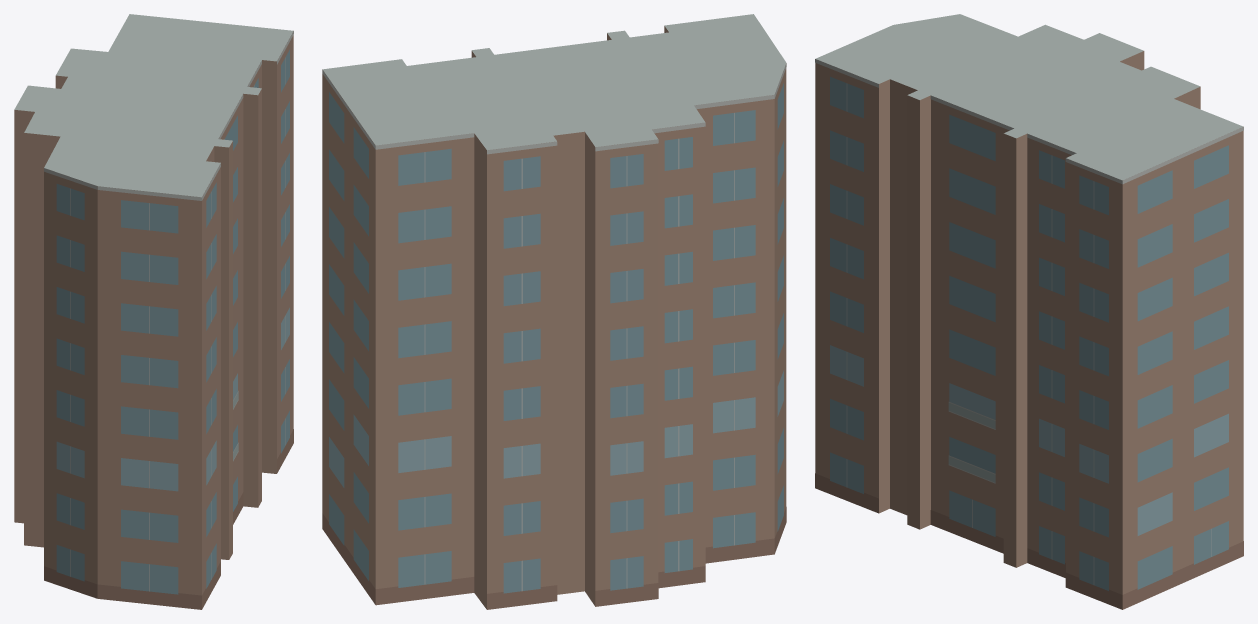
Rendered from survey-upis-32961012.glb.
The picture shows the model from 3 angles, left to right: view 1: azimuth 30°, elevation 25°; view 2: azimuth 150°, elevation 25°; view 3: azimuth 270°, elevation 25°; orthographic projection. The views are drawn at different scales.
Visible parts, largest first — view 1: survey-upis-32961012.tmp; view 2: survey-upis-32961012.tmp; view 3: survey-upis-32961012.tmp.
Part boxes in pixels (left/top/right/bottom): survey-upis-32961012.tmp: left=14, top=14, right=293, bottom=609; survey-upis-32961012.tmp: left=322, top=14, right=786, bottom=609; survey-upis-32961012.tmp: left=815, top=14, right=1243, bottom=609.
Size of the model in its own units: 22.33 by 26.85 by 24.29.
